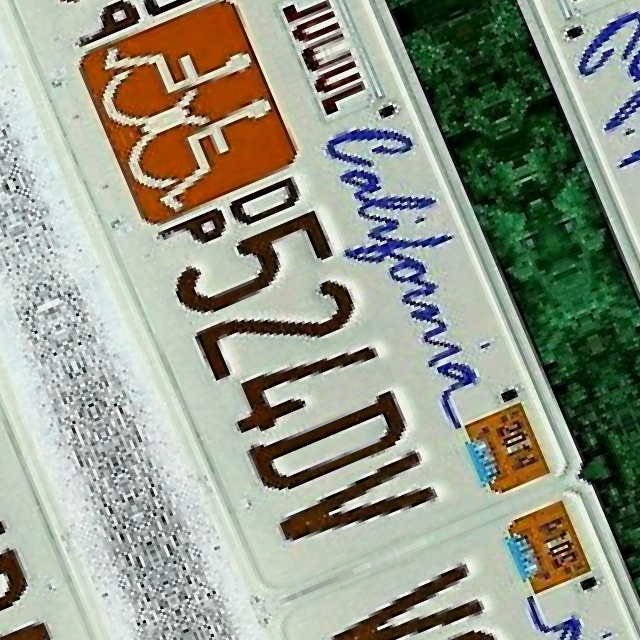ISA: (118, 79, 294, 218), (85, 1, 261, 139)
